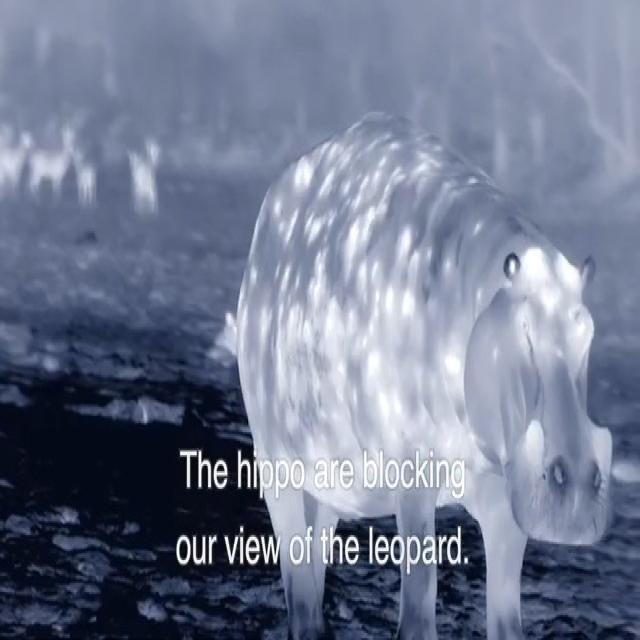animal: (229, 71, 640, 640)
